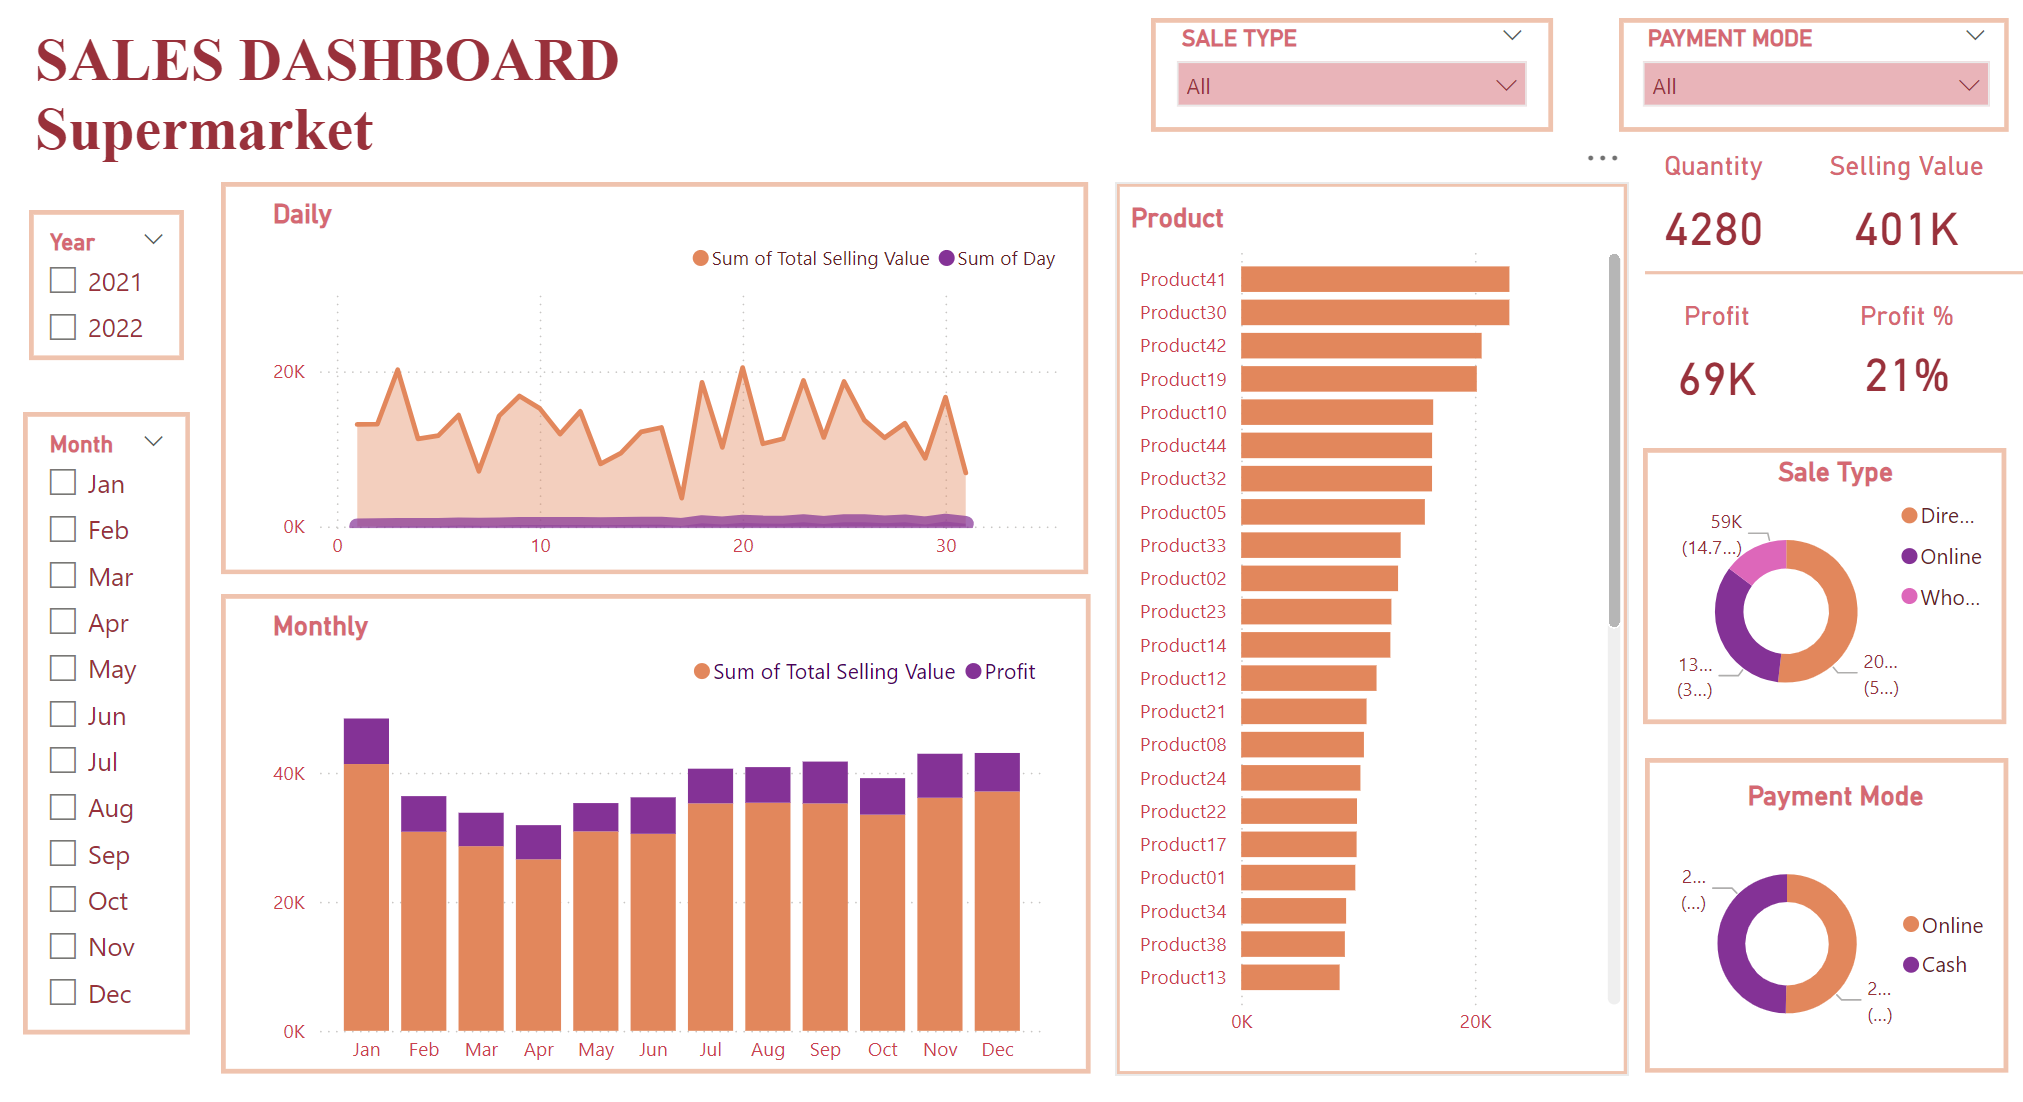

What the dashboard file says about the page in this screenshot:
{"tool":"powerbi","page":{"name":"Page 1","canvas":[1280,720],"ordinal":0},"visuals":[{"type":"slicer","fields":{"Values":["InputData.Year"]},"box":[22.7,145.6,97.1,89.5],"z":0},{"type":"slicer","fields":{"Values":["InputData.Month Name"]},"box":[22.7,271.5,97.1,394.3],"z":1000},{"type":"slicer","fields":{"Values":["InputData.SALE TYPE"]},"box":[730.9,17.8,239,57.3],"z":2000},{"type":"slicer","fields":{"Values":["InputData.PAYMENT MODE"]},"box":[1023.2,17.8,237,57.3],"z":3000},{"type":"card","title":"Selling Value","fields":{"Values":["Sum(InputData.Total Selling Value)"]},"box":[1142,101.6,112.2,75.8],"z":4000},{"type":"card","title":"Profit %","fields":{"Values":["InputData.Profit %"]},"box":[1148.1,195.6,100.1,71.3],"z":5000},{"type":"card","title":"Quantity","fields":{"Values":["Sum(InputData.QUANTITY)"]},"box":[1023.7,101.6,106.2,75.8],"z":6000},{"type":"columnChart","title":"Monthly","fields":{"Y":["Sum(InputData.Total Selling Value)","InputData.Profit"],"Category":["InputData.Month Name"]},"box":[165.3,379.1,497.4,303.3],"z":7000},{"type":"barChart","title":"Product","fields":{"Category":["InputData.MasterData.PRODUCT"],"Y":["Sum(InputData.Total Selling Value)"]},"box":[702.2,124.4,321.5,541.4],"z":8000},{"type":"areaChart","title":"Daily","fields":{"Y":["Sum(InputData.Total Selling Value)","Sum(InputData.Day)"],"Category":["InputData.Day"]},"box":[165.3,121.3,509.6,245.7],"z":9000},{"type":"donutChart","title":"Sale Type","fields":{"Y":["Sum(InputData.Total Selling Value)"],"Category":["InputData.SALE TYPE"]},"box":[1046.4,288.2,213.8,180.5],"z":10000},{"type":"donutChart","title":"Payment Mode","fields":{"Category":["InputData.PAYMENT MODE"],"Y":["Sum(InputData.Total Selling Value)"]},"box":[1046.4,491.4,213.8,191.1],"z":11000},{"type":"textbox","box":[21.2,18.2,394.3,106.2],"z":12000},{"type":"card","title":"Profit","fields":{"Values":["InputData.Profit"]},"box":[1029.8,195.6,100.1,75.8],"z":13000},{"type":"shape","box":[1034.3,157.7,241.1,40.9],"z":23000}]}

Visuals, with their boxes on the page's 1280x720 design canvas (x1, y1, x2, y2). These are canvas units, not pixel positions in the 2023x1102 screenshot, which may show the page scaled, cropped or inside an application window:
slicer - InputData.Year: Rect(23, 146, 120, 235)
slicer - InputData.Month Name: Rect(23, 272, 120, 666)
slicer - InputData.SALE TYPE: Rect(731, 18, 970, 75)
slicer - InputData.PAYMENT MODE: Rect(1023, 18, 1260, 75)
"Selling Value" card: Rect(1142, 102, 1254, 177)
"Profit %" card: Rect(1148, 196, 1248, 267)
"Quantity" card: Rect(1024, 102, 1130, 177)
"Monthly" columnChart: Rect(165, 379, 663, 682)
"Product" barChart: Rect(702, 124, 1024, 666)
"Daily" areaChart: Rect(165, 121, 675, 367)
"Sale Type" donutChart: Rect(1046, 288, 1260, 469)
"Payment Mode" donutChart: Rect(1046, 491, 1260, 682)
textbox: Rect(21, 18, 416, 124)
"Profit" card: Rect(1030, 196, 1130, 271)
shape: Rect(1034, 158, 1275, 199)
